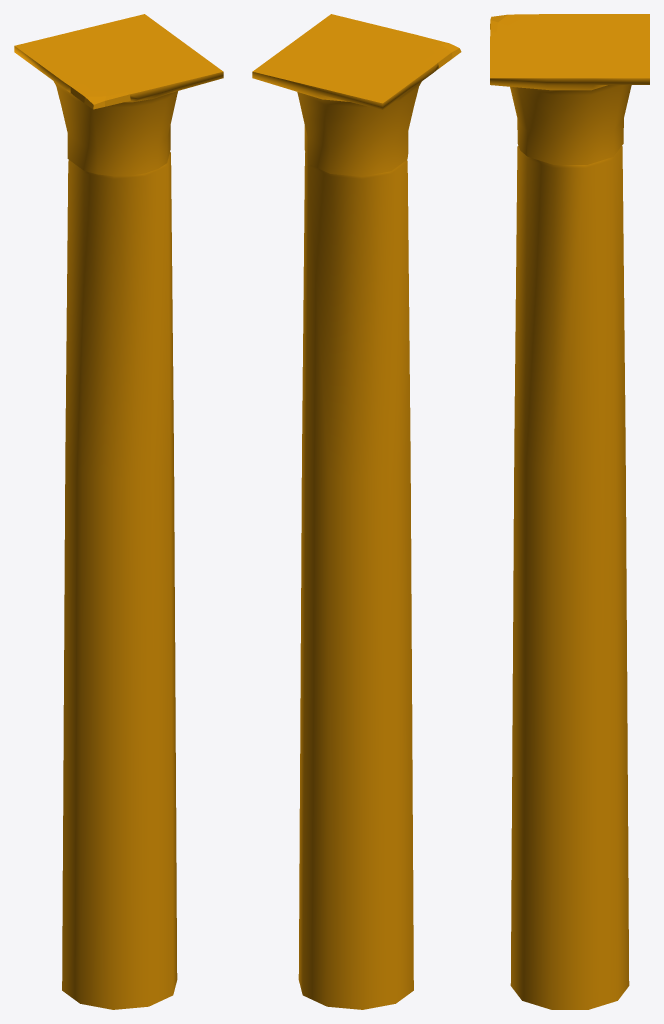
Rendered from Pillar_06_Lod1.fbx.
3 views of the same model, side by side, from view 1: azimuth 30°, elevation 25°; view 2: azimuth 150°, elevation 25°; view 3: azimuth 270°, elevation 25° (orthographic).
Parts seen in each view (by area): view 1: Pillar_06_Lod1; view 2: Pillar_06_Lod1; view 3: Pillar_06_Lod1.
Part boxes in pixels (x1,y1,x2,y2): Pillar_06_Lod1: [14, 14, 223, 1009]; Pillar_06_Lod1: [252, 14, 461, 1009]; Pillar_06_Lod1: [490, 14, 649, 1009].
Size of the model in its own units: 354 by 2406 by 370.
